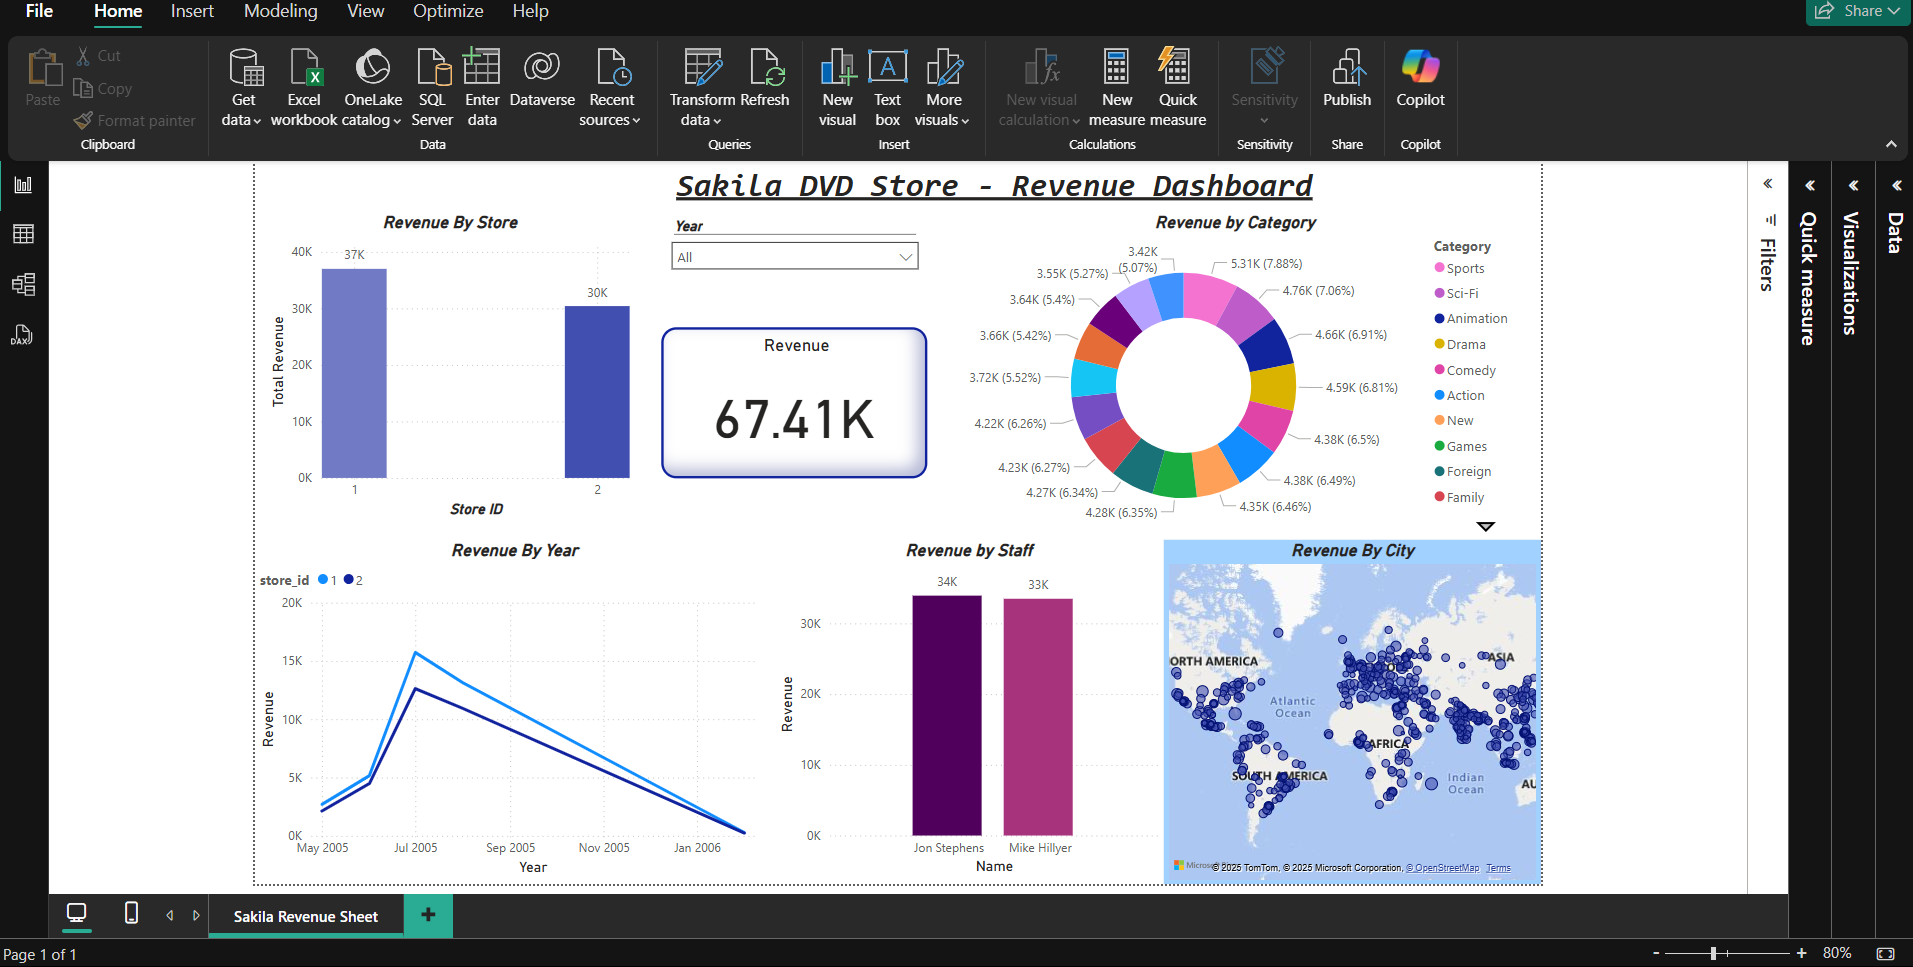

What the dashboard file says about the page in this screenshot:
{"tool":"powerbi","page":{"name":"Sakila Revenue Sheet","canvas":[1280,720],"ordinal":0},"visuals":[{"type":"columnChart","title":"Revenue By Store","fields":{"Category":["sakila store.store_id"],"Y":["sakila payment.amount"]},"box":[10,51,368.2,308.5],"z":0},{"type":"card","title":"Revenue","fields":{"Values":["sakila payment.amount"]},"box":[404.3,165.4,265,150.5],"z":1000},{"type":"lineChart","title":"Revenue By Year","fields":{"Category":["sakila payment.payment_date.Variation.Date Hierarchy.Year","sakila payment.payment_date.Variation.Date Hierarchy.Month"],"Y":["sakila payment.amount"],"Series":["sakila store.store_id"]},"box":[0,376.9,516.2,338.4],"z":2000},{"type":"columnChart","title":"Revenue by Staff","fields":{"Category":["sakila staff.FullName"],"Y":["sakila payment.amount"]},"box":[516.2,376.9,388.1,338.4],"z":2001},{"type":"donutChart","title":"Revenue by Category","fields":{"Y":["sakila payment.Revenue by Category"],"Category":["sakila category.name"]},"box":[670.5,51,609.5,325.9],"z":2002},{"type":"map","title":"Revenue By City","fields":{"Category":["sakila city.city"],"Size":["sakila payment.amount"]},"box":[904.4,376.9,375.7,343.3],"z":2003},{"type":"slicer","fields":{"Values":["sakila rental.rental_date.Variation.Date Hierarchy.Year","sakila rental.rental_date.Variation.Date Hierarchy.Month"]},"box":[404.3,51,266.2,95.8],"z":2004},{"type":"textbox","box":[297.3,0,877,51],"z":2005}]}

Visuals, with their boxes on the page's 1280x720 design canvas (x1, y1, x2, y2). These are canvas units, not pixel positions in the 1913x967 screenshot, which may show the page scaled, cropped or inside an application window:
"Revenue By Store" columnChart: BBox(10, 51, 378, 360)
"Revenue" card: BBox(404, 165, 669, 316)
"Revenue By Year" lineChart: BBox(0, 377, 516, 715)
"Revenue by Staff" columnChart: BBox(516, 377, 904, 715)
"Revenue by Category" donutChart: BBox(670, 51, 1280, 377)
"Revenue By City" map: BBox(904, 377, 1280, 720)
slicer - sakila rental.rental_date.Variation.Date Hierarchy.Year x sakila rental.rental_date.Variation.Date Hierarchy.Month: BBox(404, 51, 670, 147)
textbox: BBox(297, 0, 1174, 51)
